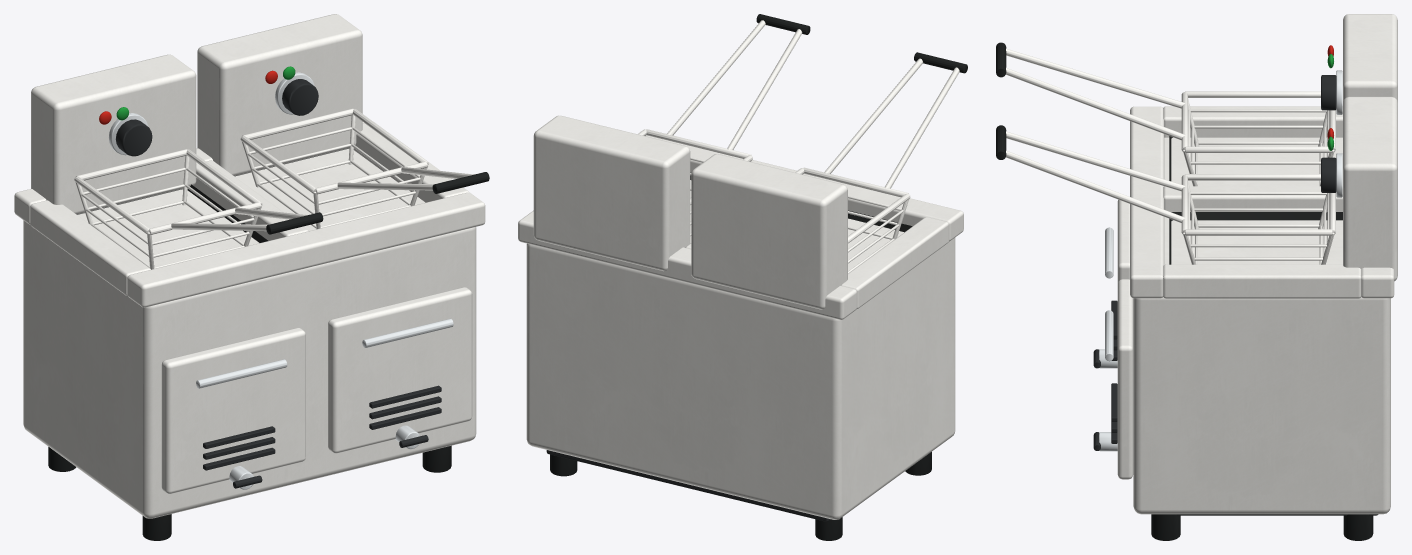
Rendered from diner_deep_fryer.glb.
3 renders of one model, left to right at view 1: azimuth 30°, elevation 25°; view 2: azimuth 150°, elevation 25°; view 3: azimuth 270°, elevation 25°, orthographic. The views are drawn at different scales.
Visible parts, largest first — view 1: diner_deep_fryer_ss_stainless_pbr, diner_deep_fryer_ss_control_black, diner_deep_fryer_ss_polished_chrome, diner_deep_fryer_ss_black_rubber, diner_deep_fryer_ss_seasoned_black_steel; view 2: diner_deep_fryer_ss_stainless_pbr, diner_deep_fryer_ss_black_rubber, diner_deep_fryer_ss_control_black; view 3: diner_deep_fryer_ss_stainless_pbr, diner_deep_fryer_ss_control_black, diner_deep_fryer_ss_black_rubber, diner_deep_fryer_ss_polished_chrome, diner_deep_fryer_ss_seasoned_black_steel.
Part boxes in pixels (x1,y1,x2,y2): diner_deep_fryer_ss_stainless_pbr: (14, 14, 485, 518); diner_deep_fryer_ss_control_black: (115, 79, 441, 488); diner_deep_fryer_ss_polished_chrome: (108, 72, 453, 489); diner_deep_fryer_ss_black_rubber: (48, 172, 489, 540); diner_deep_fryer_ss_seasoned_black_steel: (77, 148, 348, 242); diner_deep_fryer_ss_stainless_pbr: (518, 20, 963, 519); diner_deep_fryer_ss_black_rubber: (550, 14, 967, 540); diner_deep_fryer_ss_control_black: (546, 450, 830, 521); diner_deep_fryer_ss_stainless_pbr: (1006, 14, 1397, 514); diner_deep_fryer_ss_control_black: (1093, 75, 1378, 515); diner_deep_fryer_ss_black_rubber: (996, 42, 1373, 540); diner_deep_fryer_ss_polished_chrome: (1099, 70, 1342, 451); diner_deep_fryer_ss_seasoned_black_steel: (1169, 136, 1342, 264).
Bounding box in the file's own units: 1.18 × 1.21 × 1.17.
8 materials, 1 textured.
